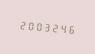four: (57, 20, 64, 35)
six: (65, 21, 72, 36)
three: (41, 19, 48, 34)
two: (17, 17, 24, 31), (49, 20, 56, 34)
zero: (33, 18, 40, 33), (25, 18, 32, 32)
